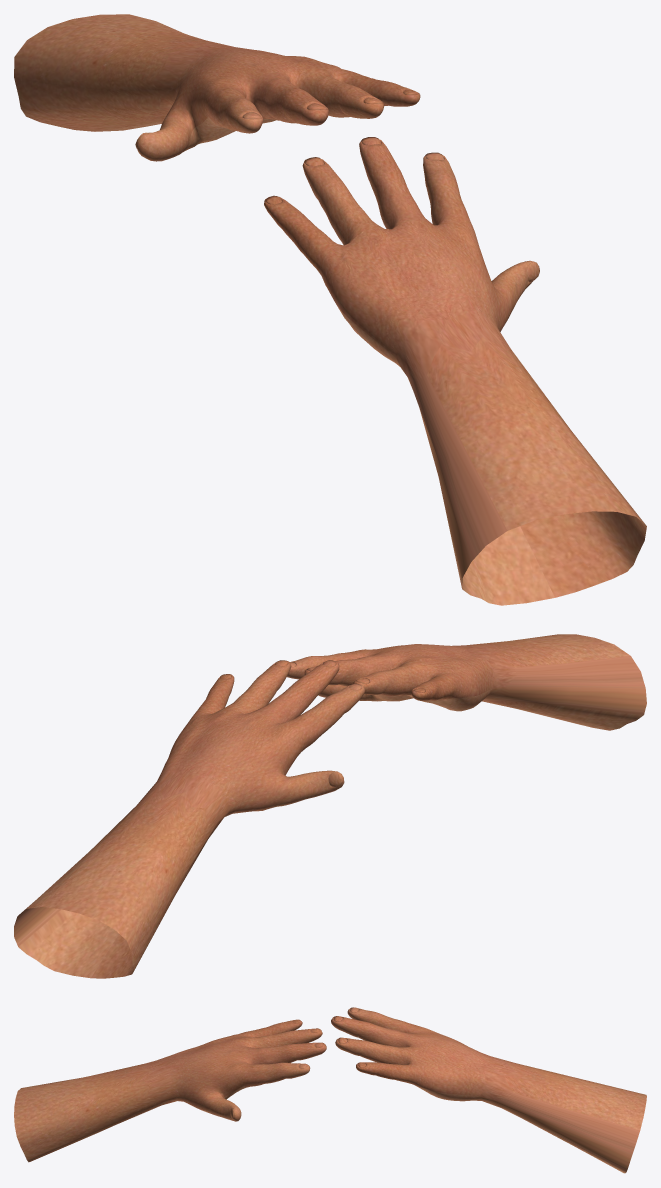
Rendered from hands_000056.obj.
3 renders of one model, top to bottom at view 1: azimuth 30°, elevation 25°; view 2: azimuth 150°, elevation 25°; view 3: azimuth 270°, elevation 25°, orthographic. The views are drawn at different scales.
Visible parts, largest first — view 1: hand.001_Mesh.001, hand_Mesh; view 2: hand_Mesh, hand.001_Mesh.001; view 3: hand_Mesh, hand.001_Mesh.001.
Part boxes in pixels (bbox=[...]): hand.001_Mesh.001: bbox=[264, 137, 646, 605]; hand_Mesh: bbox=[14, 14, 420, 161]; hand_Mesh: bbox=[14, 660, 365, 978]; hand.001_Mesh.001: bbox=[287, 634, 646, 730]; hand_Mesh: bbox=[331, 1007, 646, 1173]; hand.001_Mesh.001: bbox=[14, 1019, 326, 1162].
Bounding box in the file's own units: 1.71 × 1.57 × 6.11.
1 material, 1 textured.
